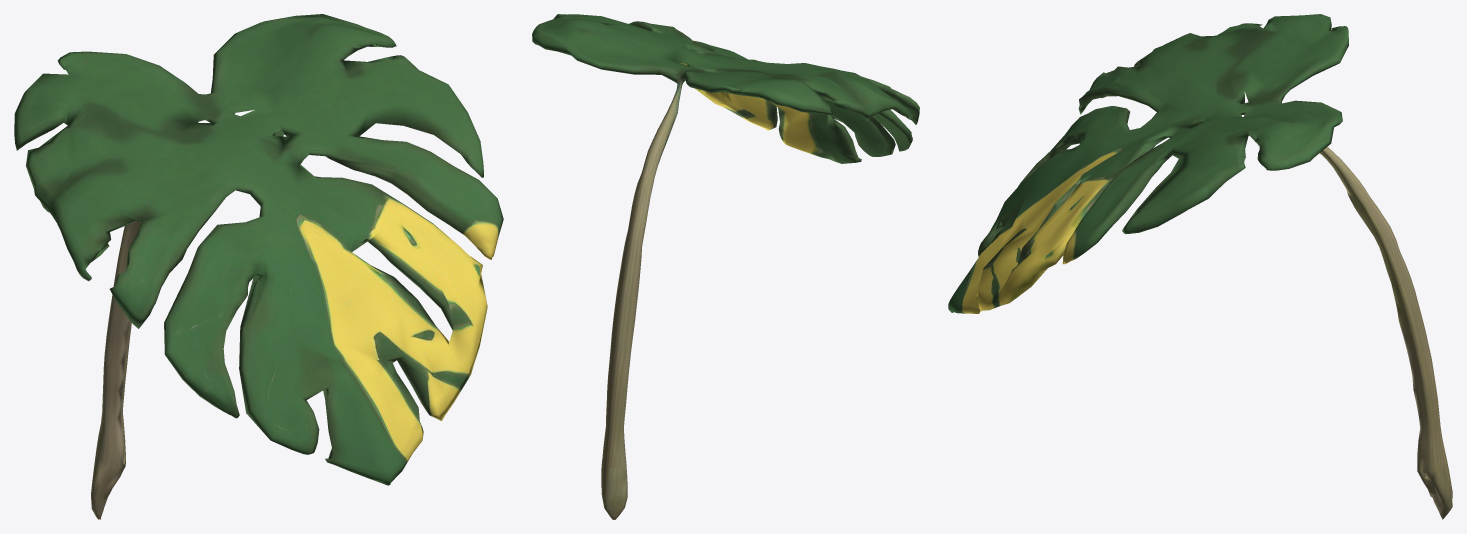
The model's file is mon_green_lemonpatch_v2.glb.
3 views of the same model, side by side, from view 1: azimuth 30°, elevation 25°; view 2: azimuth 150°, elevation 25°; view 3: azimuth 270°, elevation 25° (orthographic). The views are drawn at different scales.
Size of the model in its own units: 1.63 by 1.99 by 2.
1 material, 1 textured.
